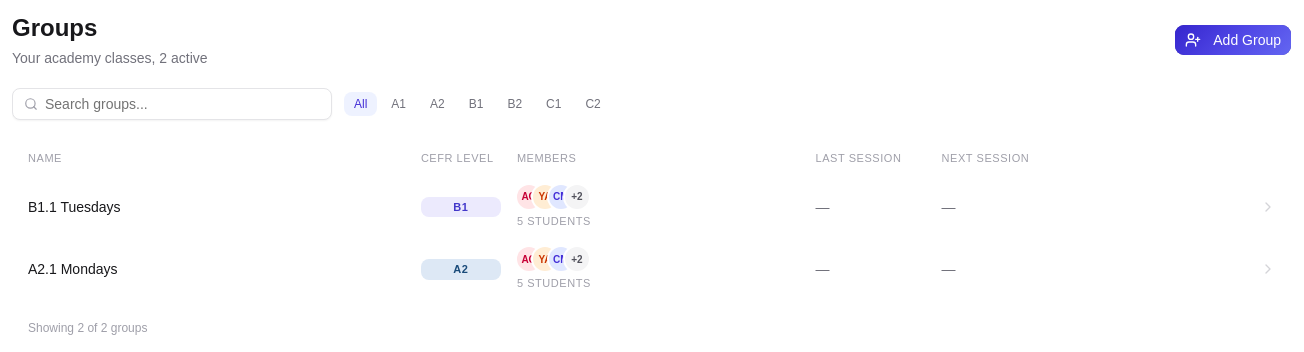
Test: Groups page › filters by search input
Expected: the text "B1.1 Tuesdays" is shown, [28,199,121,215]
Type "Monday" into the field with test id "groups-search". click: (172, 104)
box: [12,88,332,120]
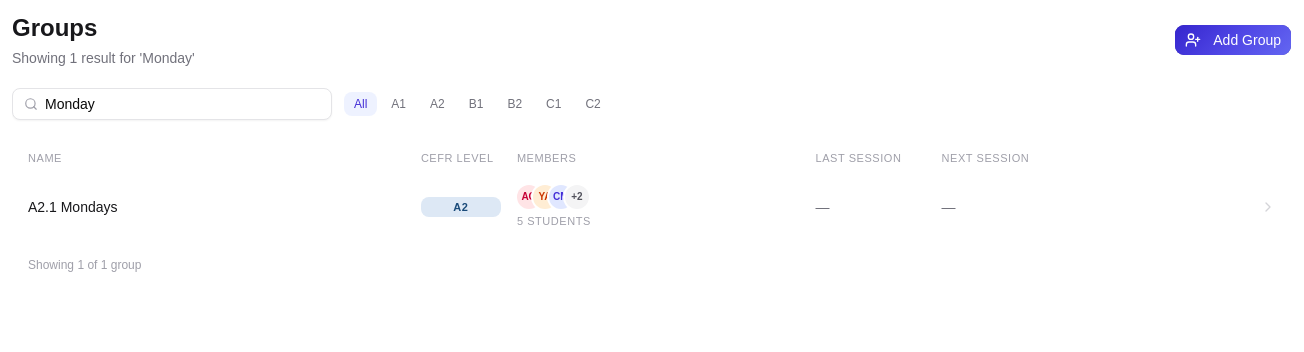
Expected: the text "A2.1 Mondays" is shown, [28,199,118,215]
Expected: the button "B1.1 Tuesdays" is gone
